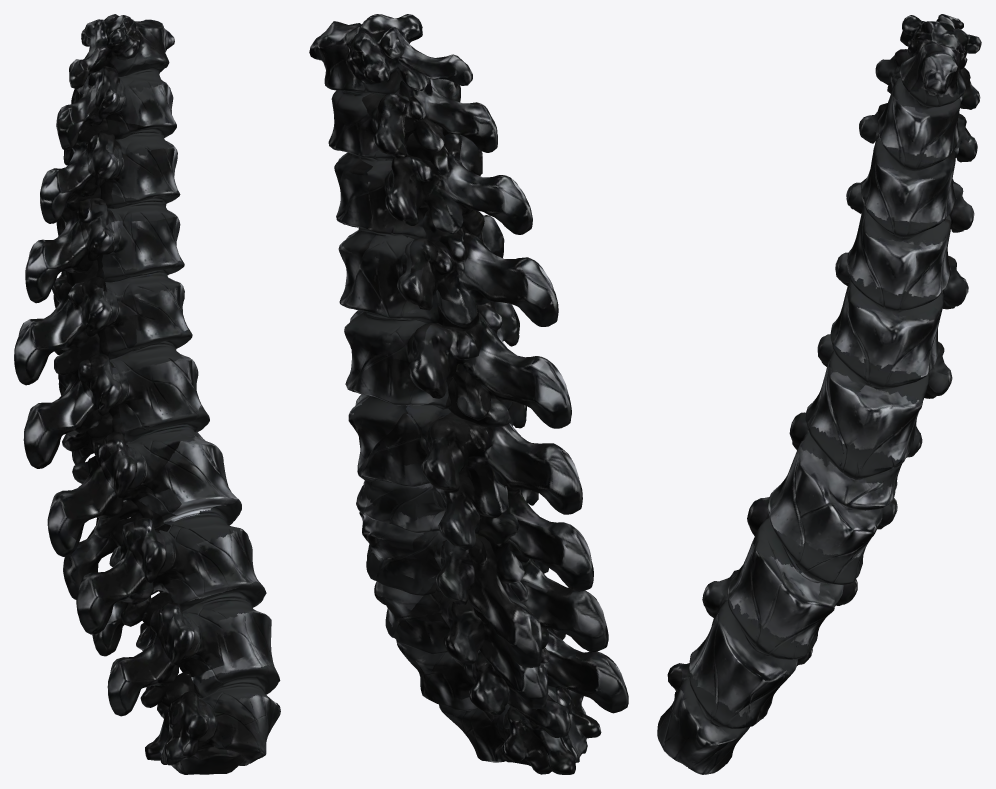
Rendered from spine-phone.glb.
The picture shows the model from 3 angles, left to right: view 1: azimuth 30°, elevation 25°; view 2: azimuth 150°, elevation 25°; view 3: azimuth 270°, elevation 25°; orthographic projection. The views are drawn at different scales.
Parts seen in each view (by area): view 1: tripo_node_fd81abb5; view 2: tripo_node_fd81abb5; view 3: tripo_node_fd81abb5.
Boxes of the visible parts, bbox=[...] form: tripo_node_fd81abb5: bbox=[14, 14, 280, 774]; tripo_node_fd81abb5: bbox=[309, 14, 628, 774]; tripo_node_fd81abb5: bbox=[657, 14, 981, 774].
Bounding box in the file's own units: 0.3294 × 1.09 × 0.4308.
1 material, 1 textured.
